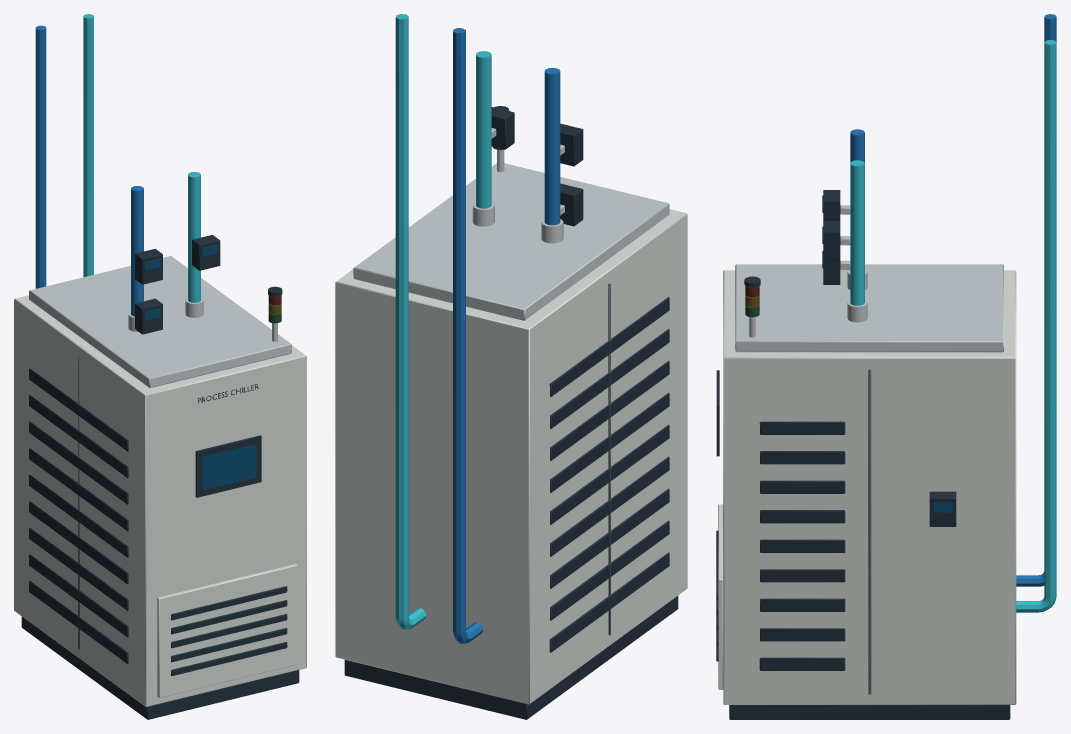
File: fab1-process-chiller.glb
3 renders of one model, left to right at view 1: azimuth 30°, elevation 25°; view 2: azimuth 150°, elevation 25°; view 3: azimuth 270°, elevation 25°, orthographic. The views are drawn at different scales.
Visible parts, largest first — view 1: PCH_Enclosure, PCH_Compressor, PCH_PCW, PCH_Coolant, TOOL_HMI_Screen, PCH_Operator, PCH_TT-R, PCH_FT, PCH_TT-S, PCH_SignalTower; view 2: PCH_Enclosure, PCH_PCW, PCH_Coolant, PCH_TT-S, PCH_TT-R, PCH_FT; view 3: PCH_Enclosure, PCH_PCW, PCH_Coolant, PCH_Compressor, PCH_LT, PCH_TT-R, PCH_SignalTower, PCH_TT-S, PCH_FT.
Boxes of the visible parts, x1,y1,x2,y2 form: PCH_Enclosure: (14, 256, 306, 719); PCH_Compressor: (157, 564, 297, 697); PCH_PCW: (35, 14, 93, 288); PCH_Coolant: (128, 172, 203, 331); TOOL_HMI_Screen: (203, 444, 256, 490); PCH_Operator: (195, 435, 261, 497); PCH_TT-R: (192, 235, 220, 270); PCH_FT: (135, 298, 162, 334); PCH_TT-S: (135, 248, 162, 284); PCH_SignalTower: (268, 286, 282, 341); PCH_Enclosure: (335, 163, 687, 719); PCH_PCW: (395, 14, 483, 643); PCH_Coolant: (472, 51, 563, 243); PCH_TT-S: (560, 123, 583, 166); PCH_TT-R: (491, 107, 514, 149); PCH_FT: (560, 183, 583, 226); PCH_Enclosure: (723, 264, 1016, 719); PCH_PCW: (1016, 14, 1056, 612); PCH_Coolant: (847, 129, 867, 322); PCH_Compressor: (716, 504, 723, 689); PCH_LT: (929, 491, 956, 526); PCH_TT-R: (822, 221, 850, 260); PCH_SignalTower: (744, 276, 760, 337); PCH_TT-S: (822, 190, 850, 220); PCH_FT: (822, 251, 850, 284).
Bounding box in the file's own units: 0.9721 × 2.9 × 1.39.
Materials: 2 (1 with a texture image).
